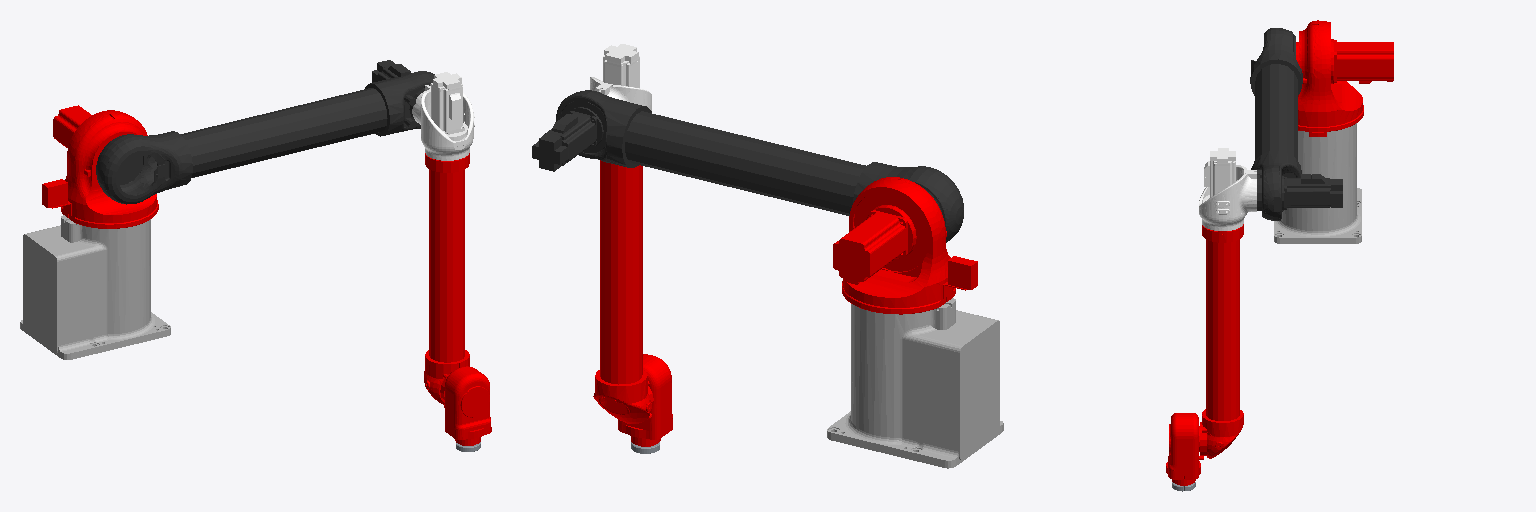
URDF robot description (hsr_br606):
<robot
  name="hsr_br606">

  <link name="world"/>

  <joint name="fixed" type="fixed">
    <parent link="world"/>
    <child link="base_link"/>
	<origin
      xyz="0 0 1"
      rpy="0 0 0" />
  </joint>

  <link
    name="base_link">
    <inertial>
      <origin
        xyz="-0.040482 0.13581 -9.8671E-09"
        rpy="0 0 0" />
      <mass
        value="10.954" />
      <inertia
        ixx="0.093861"
        ixy="-0.0058307"
        ixz="-2.7963E-06"
        iyy="0.080534"
        iyz="4.4333E-09"
        izz="0.12747" />
    </inertial>
    <visual>
      <origin
        xyz="0 0 0"
        rpy="0 0 0" />
      <geometry>
        <mesh
          filename="package://hsr_description/meshes/br606/base_link.STL" />
      </geometry>
      <material
        name="">
        <color
          rgba="0.752941176470588 0.752941176470588 0.752941176470588 1" />
      </material>
    </visual>
    <collision>
      <origin
        xyz="0 0 0"
        rpy="0 0 0" />
      <geometry>
        <mesh
          filename="package://hsr_description/meshes/br606/base_link.STL" />
      </geometry>
    </collision>
  </link>
  <link
    name="link1">
    <inertial>
      <origin
        xyz="-0.0163304681469045 -0.102030939733314 0.000232368620113542"
        rpy="0 0 0" />
      <mass
        value="4.59276430213053" />
      <inertia
        ixx="0.0270629615715191"
        ixy="-0.00331383168971066"
        ixz="-1.75303777414231E-05"
        iyy="0.0249050231994336"
        iyz="-9.30496066742349E-05"
        izz="0.0311200335574428" />
    </inertial>
    <visual>
      <origin
        xyz="0 0 0"
        rpy="0 0 0" />
      <geometry>
        <mesh
          filename="package://hsr_description/meshes/br606/link1.STL" />
      </geometry>
      <material
        name="">
        <color
          rgba="1 0 0 1" />
      </material>
    </visual>
    <collision>
      <origin
        xyz="0 0 0"
        rpy="0 0 0" />
      <geometry>
        <mesh
          filename="package://hsr_description/meshes/br606/link1.STL" />
      </geometry>
    </collision>
  </link>
  <joint
    name="joint_1"
    type="revolute">
    <origin
      xyz="0 0 0"
      rpy="-1.5707963267949 -1.5707963267949 0" />
    <parent
      link="base_link" />
    <child
      link="link1" />
    <axis
      xyz="1 0 0" />
    <limit  lower="-2.71415" upper="2.71415" effort="28.0" velocity="3.2"/>
  <safety_controller k_position="100"
                     k_velocity="10"
                     soft_lower_limit="-2.6179"
                     soft_upper_limit="2.6179" /> 
  </joint>
  <link
    name="link2">
    <inertial>
      <origin
        xyz="-0.394642177371542 0.000111323620801942 -0.0909848584504052"
        rpy="0 0 0" />
      <mass
        value="6.56009345873244" />
      <inertia
        ixx="0.0131883649088827"
        ixy="0.000223190726719286"
        ixz="0.0065397673191675"
        iyy="0.381831864466054"
        iyz="-5.12287437923494E-05"
        izz="0.379772548456655" />
    </inertial>
    <visual>
      <origin
        xyz="0 0 0"
        rpy="0 0 0" />
      <geometry>
        <mesh
          filename="package://hsr_description/meshes/br606/link2.STL" />
      </geometry>
      <material
        name="">
        <color
          rgba="0.250980392156863 0.250980392156863 0.250980392156863 1" />
      </material>
    </visual>
    <collision>
      <origin
        xyz="0 0 0"
        rpy="0 0 0" />
      <geometry>
        <mesh
          filename="package://hsr_description/meshes/br606/link2.STL" />
      </geometry>
    </collision>
  </link>
  <joint
    name="joint_2"
    type="revolute">
    <origin
      xyz="0 0 -0.0965"
      rpy="-2.60414512664787E-19 2.50218939158031E-21 1.57079635078175" />
    <parent
      link="link1" />
    <child
      link="link2" />
    <axis
      xyz="0 0 1" />
    <limit  lower="-3.1" upper="0" effort="28.0" velocity="3.2"/>
  <safety_controller k_position="100"
                     k_velocity="10"
                     soft_lower_limit="-3.1"
                     soft_upper_limit="0" /> 
  </joint>
  <link
    name="link3">
    <inertial>
      <origin
        xyz="0.00353725574440909 4.76623719094516E-05 0.0765648585551428"
        rpy="0 0 0" />
      <mass
        value="1.11115013215577" />
      <inertia
        ixx="0.00181207507130265"
        ixy="-8.15897686341942E-07"
        ixz="-8.10607375549069E-05"
        iyy="0.00341914497805436"
        iyz="-2.61386178037707E-08"
        izz="0.00304056546013647" />
    </inertial>
    <visual>
      <origin
        xyz="0 0 0"
        rpy="0 0 0" />
      <geometry>
        <mesh
          filename="package://hsr_description/meshes/br606/link3.STL" />
      </geometry>
      <material
        name="">
        <color
          rgba="1 1 1 1" />
      </material>
    </visual>
    <collision>
      <origin
        xyz="0 0 0"
        rpy="0 0 0" />
      <geometry>
        <mesh
          filename="package://hsr_description/meshes/br606/link3.STL" />
      </geometry>
    </collision>
  </link>
  <joint
    name="joint_3"
    type="revolute">
    <origin
      xyz="0.725999999928 0 -0.1245"
      rpy="-2.61618022719008E-33 -1.8705490199458E-25 -1.57079631299268" />
    <parent
      link="link2" />
    <child
      link="link3" />
    <axis
      xyz="0 0 1" />
    <limit  lower="-0.63" upper="3.4" effort="28.0" velocity="3.2"/>
  <safety_controller k_position="100"
                     k_velocity="10"
                     soft_lower_limit="-0.5585"
                     soft_upper_limit="3.4" /> 
  </joint>
  <link
    name="link4">
    <inertial>
      <origin
        xyz="0.00233159496554416 4.62822291380505E-07 0.30346531669814"
        rpy="0 0 0" />
      <mass
        value="3.18597657698263" />
      <inertia
        ixx="0.100556216689899"
        ixy="-8.97773998376489E-09"
        ixz="-0.00192678369752958"
        iyy="0.100584424161445"
        iyz="9.85953790614856E-07"
        izz="0.00297677714591598" />
    </inertial>
    <visual>
      <origin
        xyz="0 0 0"
        rpy="0 0 0" />
      <geometry>
        <mesh
          filename="package://hsr_description/meshes/br606/link4.STL" />
      </geometry>
      <material
        name="">
        <color
          rgba="1 0 0 1" />
      </material>
    </visual>
    <collision>
      <origin
        xyz="0 0 0"
        rpy="0 0 0" />
      <geometry>
        <mesh
          filename="package://hsr_description/meshes/br606/link4.STL" />
      </geometry>
    </collision>
  </link>
  <joint
    name="joint_4"
    type="revolute">
    <origin
      xyz="-0.630499999499992 0 0"
      rpy="0 1.5707963267949 0" />
    <parent
      link="link3" />
    <child
      link="link4" />
    <axis
      xyz="0 0 -0.999999999999999" />
    <limit  lower="-1.57" upper="1.57" effort="28.0" velocity="3.2"/>
  <safety_controller k_position="100"
                     k_velocity="10"
                     soft_lower_limit="-1.57"
                     soft_upper_limit="1.57" /> 
  </joint>
  <link
    name="link5">
    <inertial>
      <origin
        xyz="0.0464335628850828 1.34238986080337E-05 0.021533599146909"
        rpy="0 0 0" />
      <mass
        value="0.868404071249388" />
      <inertia
        ixx="0.00215689936272495"
        ixy="-1.57018649810158E-08"
        ixz="-1.86461968066964E-05"
        iyy="0.00196991648067436"
        iyz="-6.38364126417243E-07"
        izz="0.000809062204349609" />
    </inertial>
    <visual>
      <origin
        xyz="0 0 0"
        rpy="0 0 0" />
      <geometry>
        <mesh
          filename="package://hsr_description/meshes/br606/link5.STL" />
      </geometry>
      <material
        name="">
        <color
          rgba="1 0 0 1" />
      </material>
    </visual>
    <collision>
      <origin
        xyz="0 0 0"
        rpy="0 0 0" />
      <geometry>
        <mesh
          filename="package://hsr_description/meshes/br606/link5.STL" />
      </geometry>
    </collision>
  </link>
  <joint
    name="joint_5"
    type="revolute">
    <origin
      xyz="0.091 0 0"
      rpy="0 1.5708 0" />
    <parent
      link="link4" />
    <child
      link="link5" />
    <axis
      xyz="0 0 -1" />
    <limit  lower="-1.68" upper="1.68" effort="28.0" velocity="3.2"/>
  <safety_controller k_position="100"
                     k_velocity="10"
                     soft_lower_limit="-1.68"
                     soft_upper_limit="1.68" /> 
  </joint>
  <link
    name="link6">
    <inertial>
      <origin
        xyz="-8.65882064007284E-05 8.6588206473559E-05 -0.0107649485573491"
        rpy="0 0 0" />
      <mass
        value="0.0270769176823693" />
      <inertia
        ixx="5.43734063572495E-06"
        ixy="-1.00108295474267E-07"
        ixz="4.39894702392336E-09"
        iyy="5.43734063575559E-06"
        iyz="-4.39894701843006E-09"
        izz="1.01791524144431E-05" />
    </inertial>
    <visual>
      <origin
        xyz="0 0 0"
        rpy="0 0 0" />
      <geometry>
        <mesh
          filename="package://hsr_description/meshes/br606/link6.STL" />
      </geometry>
      <material
        name="">
        <color
          rgba="0.61569 0.64314 0.67451 1" />
      </material>
    </visual>
    <collision>
      <origin
        xyz="0 0 0"
        rpy="0 0 0" />
      <geometry>
        <mesh
          filename="package://hsr_description/meshes/br606/link6.STL" />
      </geometry>
    </collision>
  </link>
  <joint
    name="joint_6"
    type="revolute">
    <origin
      xyz="0.122 0 0"
      rpy="1.4901E-08 1.5708 0" />
    <parent
      link="link5" />
    <child
      link="link6" />
    <axis
      xyz="0 0 1" />
    <limit  lower="-4.5" upper="4.5" effort="28.0" velocity="3.2"/>
  <safety_controller k_position="100"
                     k_velocity="10"
                     soft_lower_limit="-4.5"
                     soft_upper_limit="4.5" /> 
  </joint>


<gazebo>
    <plugin name="gazebo_ros_control" filename="libgazebo_ros_control.so">
      <robotNamespace>/</robotNamespace>
      <robotSimType>gazebo_ros_control/DefaultRobotHWSim</robotSimType>
    </plugin>
  </gazebo>

  <transmission name="tran1">
    <type>transmission_interface/SimpleTransmission</type>
    <joint name="joint_1">
      <hardwareInterface>PositionJointInterface</hardwareInterface>
    </joint>
    <actuator name="motor1">
      <hardwareInterface>PositionJointInterface</hardwareInterface>
      <mechanicalReduction>1</mechanicalReduction>
    </actuator>
  </transmission>

  <transmission name="tran2">
    <type>transmission_interface/SimpleTransmission</type>
    <joint name="joint_2">
      <hardwareInterface>PositionJointInterface</hardwareInterface>
    </joint>
    <actuator name="motor2">
      <hardwareInterface>PositionJointInterface</hardwareInterface>
      <mechanicalReduction>1</mechanicalReduction>
    </actuator>
  </transmission>

  <transmission name="tran3">
    <type>transmission_interface/SimpleTransmission</type>
    <joint name="joint_3">
      <hardwareInterface>PositionJointInterface</hardwareInterface>
    </joint>
    <actuator name="motor3">
      <hardwareInterface>PositionJointInterface</hardwareInterface>
      <mechanicalReduction>1</mechanicalReduction>
    </actuator>
  </transmission>

  <transmission name="tran4">
    <type>transmission_interface/SimpleTransmission</type>
    <joint name="joint_4">
      <hardwareInterface>PositionJointInterface</hardwareInterface>
    </joint>
    <actuator name="motor4">
      <hardwareInterface>PositionJointInterface</hardwareInterface>
      <mechanicalReduction>1</mechanicalReduction>
    </actuator>
  </transmission>

  <transmission name="tran5">
    <type>transmission_interface/SimpleTransmission</type>
    <joint name="joint_5">
      <hardwareInterface>PositionJointInterface</hardwareInterface>
    </joint>
    <actuator name="motor5">
      <hardwareInterface>PositionJointInterface</hardwareInterface>
      <mechanicalReduction>1</mechanicalReduction>
    </actuator>
  </transmission>

  <transmission name="tran6">
    <type>transmission_interface/SimpleTransmission</type>
    <joint name="joint_6">
      <hardwareInterface>PositionJointInterface</hardwareInterface>
    </joint>
    <actuator name="motor6">
      <hardwareInterface>PositionJointInterface</hardwareInterface>
      <mechanicalReduction>1</mechanicalReduction>
    </actuator>
  </transmission>

</robot>

--- Facts derived from the render (not from the file) ---
Views: 3 orthographic renders of the robot side by side, from view 1: azimuth 30°, elevation 25°; view 2: azimuth 150°, elevation 25°; view 3: azimuth 270°, elevation 25°.
Model hsr_br606 with 8 links and 7 joints (6 revolute, 1 fixed), rooted at world, posed all joints at 0.
Visible links, largest first — view 1: link2, base_link, link4, link1, link3, link5; view 2: base_link, link2, link1, link4, link5, link3; view 3: link2, link4, link1, base_link, link3, link5.
Boxes of the visible links, bbox=[...] form: link2: bbox=[96, 60, 434, 204]; base_link: bbox=[20, 215, 170, 359]; link4: bbox=[424, 153, 469, 404]; link1: bbox=[42, 105, 158, 228]; link3: bbox=[412, 72, 474, 160]; link5: bbox=[444, 366, 491, 445]; base_link: bbox=[827, 298, 1003, 468]; link2: bbox=[532, 90, 963, 242]; link1: bbox=[833, 177, 977, 314]; link4: bbox=[593, 160, 653, 423]; link5: bbox=[618, 354, 672, 446]; link3: bbox=[590, 44, 651, 110]; link2: bbox=[1250, 28, 1342, 220]; link4: bbox=[1199, 224, 1243, 458]; link1: bbox=[1296, 20, 1393, 136]; base_link: bbox=[1274, 123, 1361, 243]; link3: bbox=[1199, 148, 1256, 230]; link5: bbox=[1166, 413, 1203, 485].
Size in the robot's own frame: 0.9663 by 0.5294 by 0.854 metres.
7 mesh visuals loaded from 7 distinct referenced files (7 binary STL).